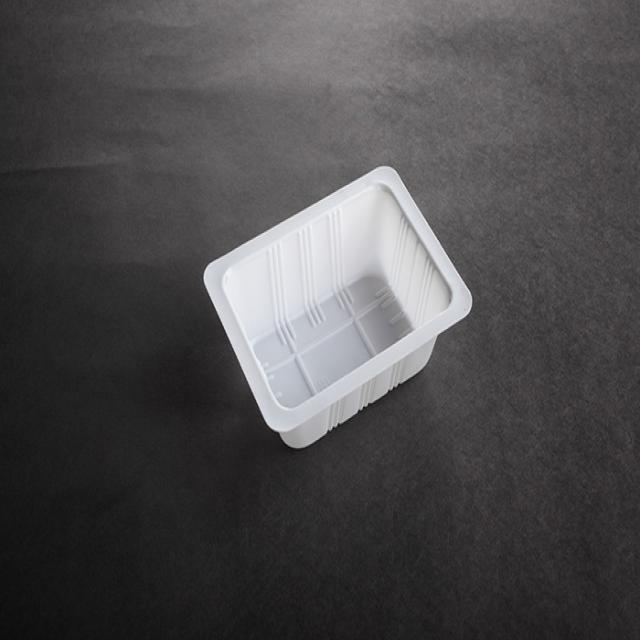plastic: (200, 164, 474, 456)
